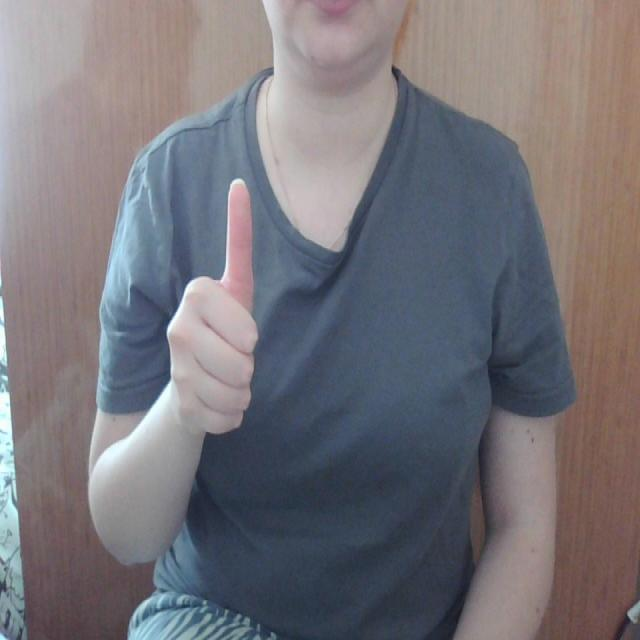Tamam: (163, 172, 264, 444)
